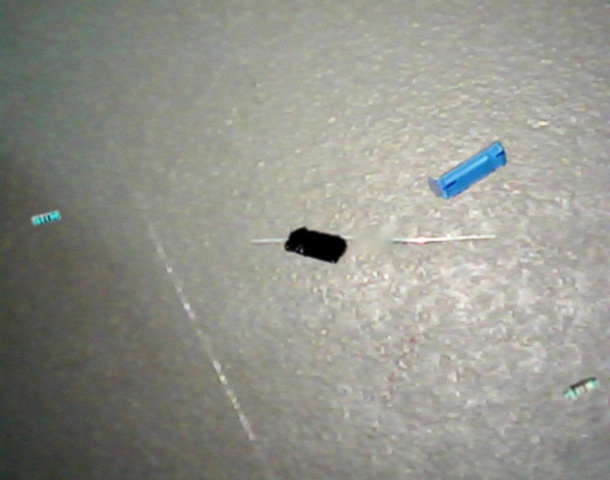capacitor: (428, 141, 508, 199), (284, 227, 347, 264)
resistor: (561, 373, 600, 402), (31, 211, 61, 226)
